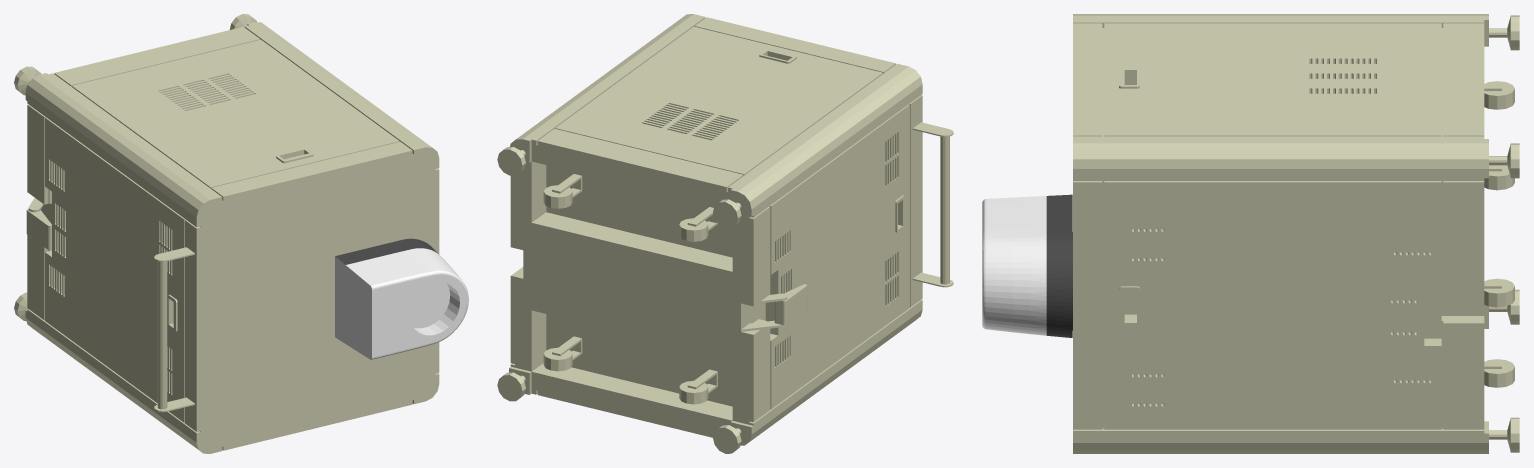
The model's file is WAIST_Link_mesh.obj.
3 renders of one model, left to right at view 1: azimuth 30°, elevation 25°; view 2: azimuth 150°, elevation 25°; view 3: azimuth 270°, elevation 25°, orthographic. The views are drawn at different scales.
Visible parts, largest first — view 1: root.002, root.001, root; view 2: root.002; view 3: root.002, root.001, root.
Part boxes in pixels (box(x1,y1,x2,y2)): root.002: box(14, 14, 439, 453); root.001: box(335, 248, 468, 359); root: box(335, 238, 438, 264); root.002: box(497, 14, 953, 453); root.002: box(1073, 14, 1519, 453); root.001: box(982, 196, 1046, 335); root: box(1046, 194, 1072, 337).
Bounding box in the file's own units: 0.669 × 0.588 × 0.9145.
